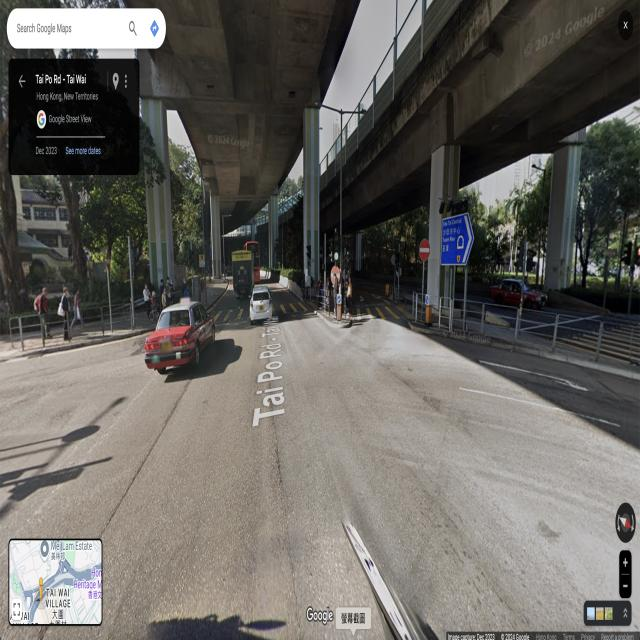Direction-Sign: (441, 213, 474, 264)
Order-Sign: (419, 238, 430, 262), (199, 254, 205, 267), (337, 295, 341, 303), (426, 296, 428, 304)
